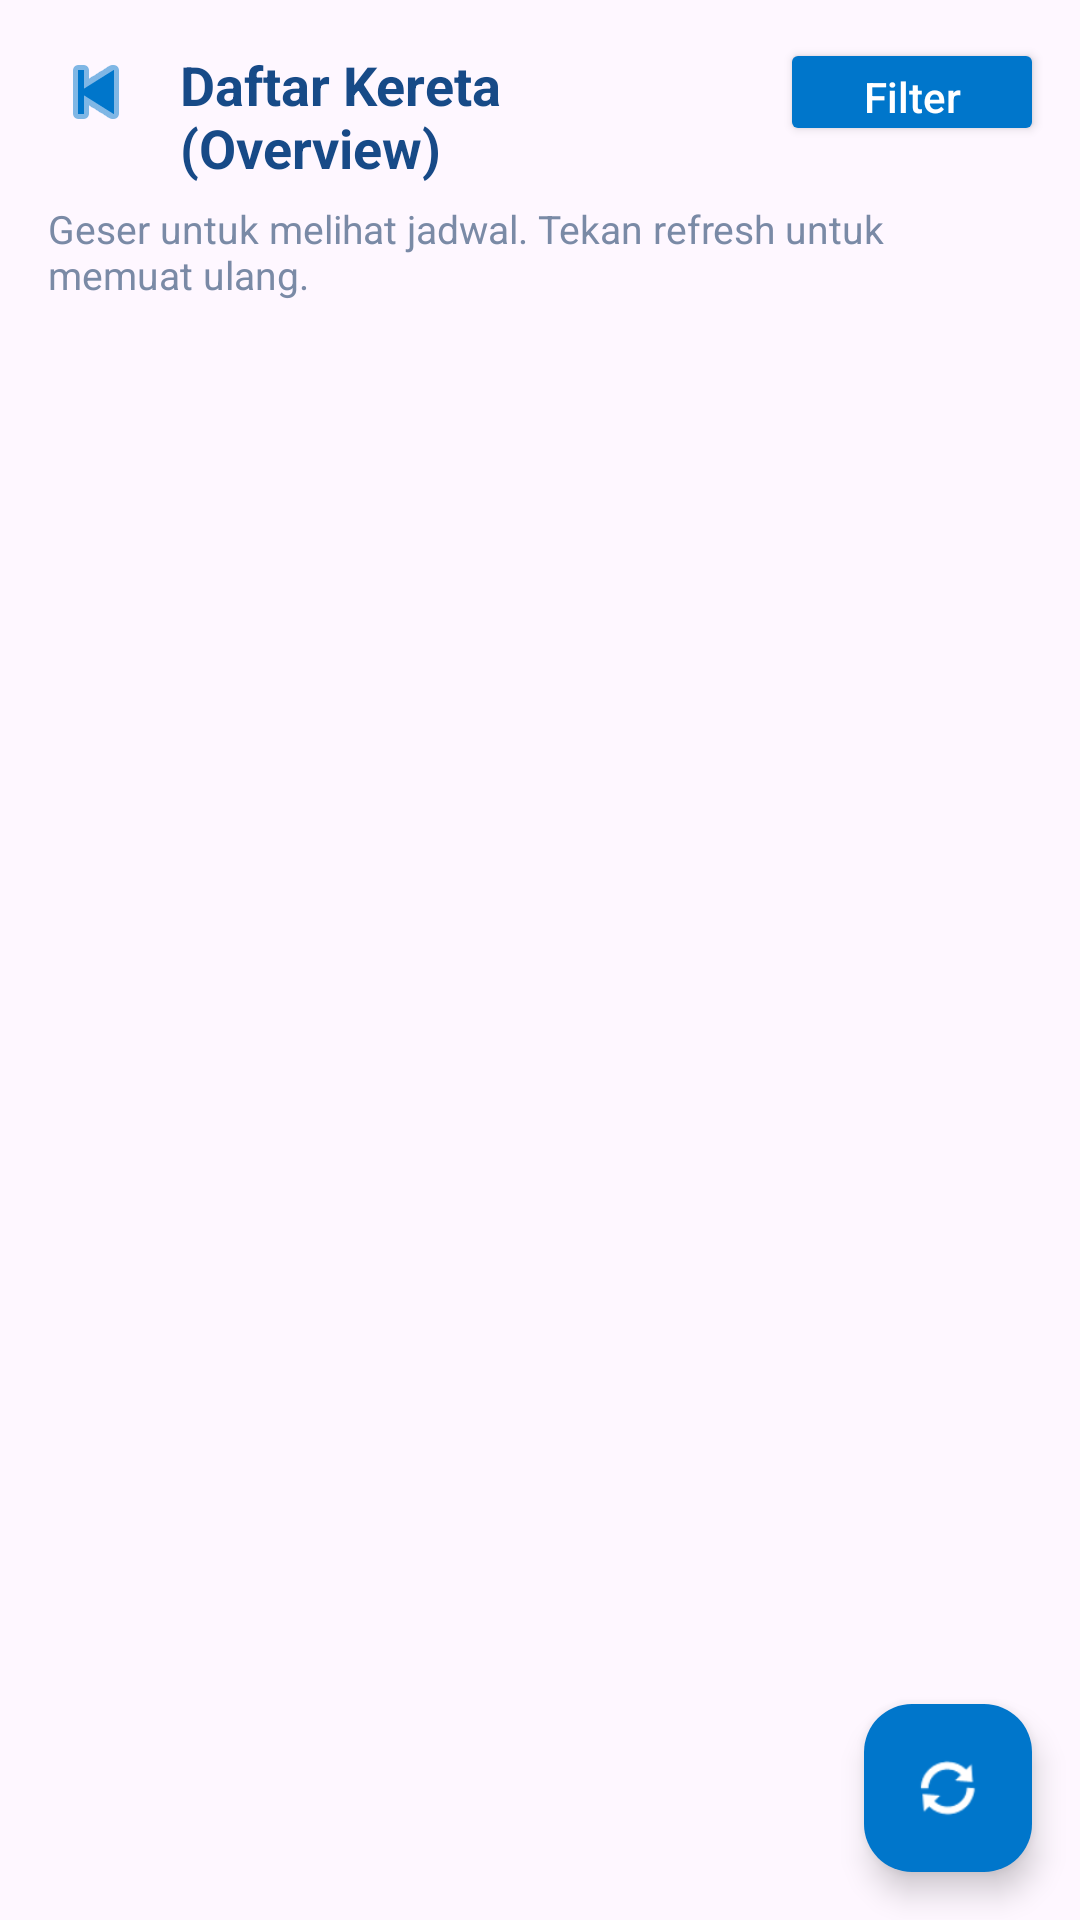

Icon click points for this 1080*1920 phone screenshot, format point (x, y):
popup sync: point (948, 1788)
